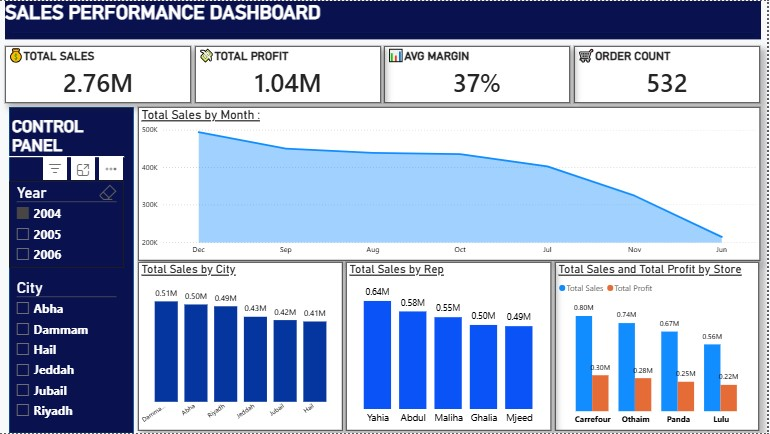

The dashboard page shown, as its layout file describes it:
{"tool":"powerbi","page":{"name":"Page ١","canvas":[1280,720],"ordinal":0},"visuals":[{"type":"shape","box":[16,176,208,544],"z":0},{"type":"shape","title":"SALES PERFORMANCE DASHBOARD","box":[10,0,1260,64],"z":1000},{"type":"cardVisual","title":"💰TOTAL SALES","fields":{"Data":["Sheet1.Total Sales"]},"box":[10,75,310,95],"z":2000},{"type":"cardVisual","title":"🛒ORDER COUNT","fields":{"Data":["Sheet1.Order Count"]},"box":[958,75,310,95],"z":3000},{"type":"cardVisual","title":"📊AVG MARGIN","fields":{"Data":["Sheet1.Avg Profit Margin"]},"box":[642,75,310,95],"z":4000},{"type":"cardVisual","title":"💸TOTAL PROFIT","fields":{"Data":["Sheet1.Total Profit"]},"box":[326,75,310,95],"z":5000},{"type":"lineChart","title":"Total Sales by Month :","fields":{"Category":["Sheet1.Month Name"],"Y":["Sheet1.Total Sales"]},"box":[231,176,1037,256],"z":6000},{"type":"slicer","fields":{"Values":["Sheet1.Year"]},"box":[16,300,192,145],"z":7000},{"type":"slicer","fields":{"Values":["Sheet1.City"]},"box":[16,459,192,249],"z":8000},{"type":"clusteredColumnChart","fields":{"Category":["Sheet1.City"],"Y":["Sheet1.Total Sales"]},"box":[231,435,341,281],"z":9000},{"type":"clusteredColumnChart","fields":{"Y":["Sheet1.Total Sales","Sheet1.Total Profit"],"Category":["Sheet1.Store"]},"box":[927,435,340,281],"z":10000},{"type":"clusteredColumnChart","fields":{"Category":["Sheet1.Rep"],"Y":["Sheet1.Total Sales"]},"box":[578,435,342,281],"z":11000},{"type":"actionButton","title":"CONTROL PANEL ","box":[21,191,210,97],"z":12000},{"type":"shape","box":[16,244,192,32],"z":13000}]}

Visuals, with their boxes in screenshot pixels (x1, y1, x2, y2), scaled from the page's 1280x720 canvas onto the 770x434 screenshot:
shape: 10/106/135/433
"SALES PERFORMANCE DASHBOARD" shape: 6/0/764/39
"💰TOTAL SALES" cardVisual: 6/45/192/102
"🛒ORDER COUNT" cardVisual: 576/45/763/102
"📊AVG MARGIN" cardVisual: 386/45/573/102
"💸TOTAL PROFIT" cardVisual: 196/45/383/102
"Total Sales by Month :" lineChart: 139/106/763/260
slicer - Sheet1.Year: 10/181/125/268
slicer - Sheet1.City: 10/277/125/427
clusteredColumnChart - Sheet1.City x Sheet1.Total Sales: 139/262/344/432
clusteredColumnChart - Sheet1.Total Sales x Sheet1.Total Profit: 558/262/762/432
clusteredColumnChart - Sheet1.Rep x Sheet1.Total Sales: 348/262/553/432
"CONTROL PANEL " actionButton: 13/115/139/174
shape: 10/147/125/166
